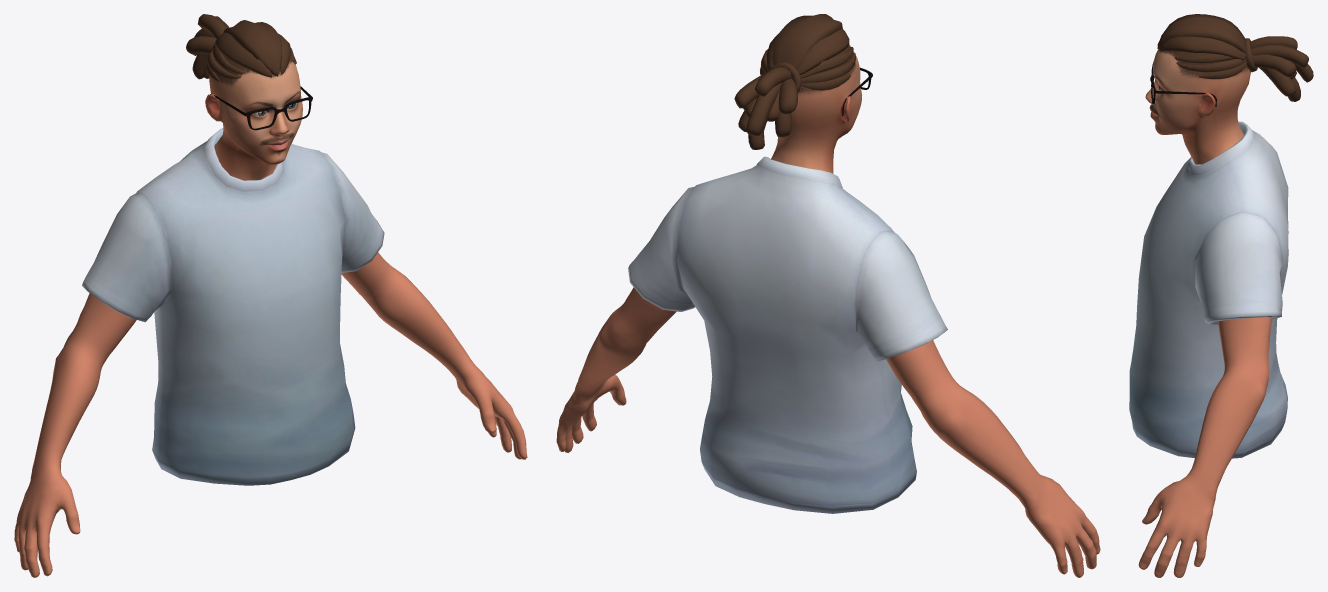
Rendered from new_profile.glb.
3 views of the same model, side by side, from view 1: azimuth 30°, elevation 25°; view 2: azimuth 150°, elevation 25°; view 3: azimuth 270°, elevation 25° (orthographic). The views are drawn at different scales.
Parts seen in each view (by area): view 1: Wolf3D_Outfit_Top, Wolf3D_Body, Wolf3D_Head, Wolf3D_Hair, Wolf3D_Glasses; view 2: Wolf3D_Outfit_Top, Wolf3D_Body, Wolf3D_Hair, Wolf3D_Head; view 3: Wolf3D_Outfit_Top, Wolf3D_Body, Wolf3D_Head, Wolf3D_Hair, Wolf3D_Glasses.
Part boxes in pixels (x1,y1,x2,y2): Wolf3D_Outfit_Top: (82,128,384,485); Wolf3D_Body: (14,252,527,577); Wolf3D_Head: (205,55,302,180); Wolf3D_Hair: (186,14,296,81); Wolf3D_Glasses: (210,86,312,130); Wolf3D_Outfit_Top: (628,156,947,513); Wolf3D_Body: (556,287,1100,577); Wolf3D_Hair: (734,14,855,149); Wolf3D_Head: (771,44,861,173); Wolf3D_Outfit_Top: (1129,121,1288,458); Wolf3D_Body: (1138,317,1271,577); Wolf3D_Head: (1145,49,1250,164); Wolf3D_Hair: (1157,14,1313,101); Wolf3D_Glasses: (1150,62,1216,106).
Bounding box in the file's own units: 1.06 × 0.9747 × 0.3615.
7 materials, 7 textured.
